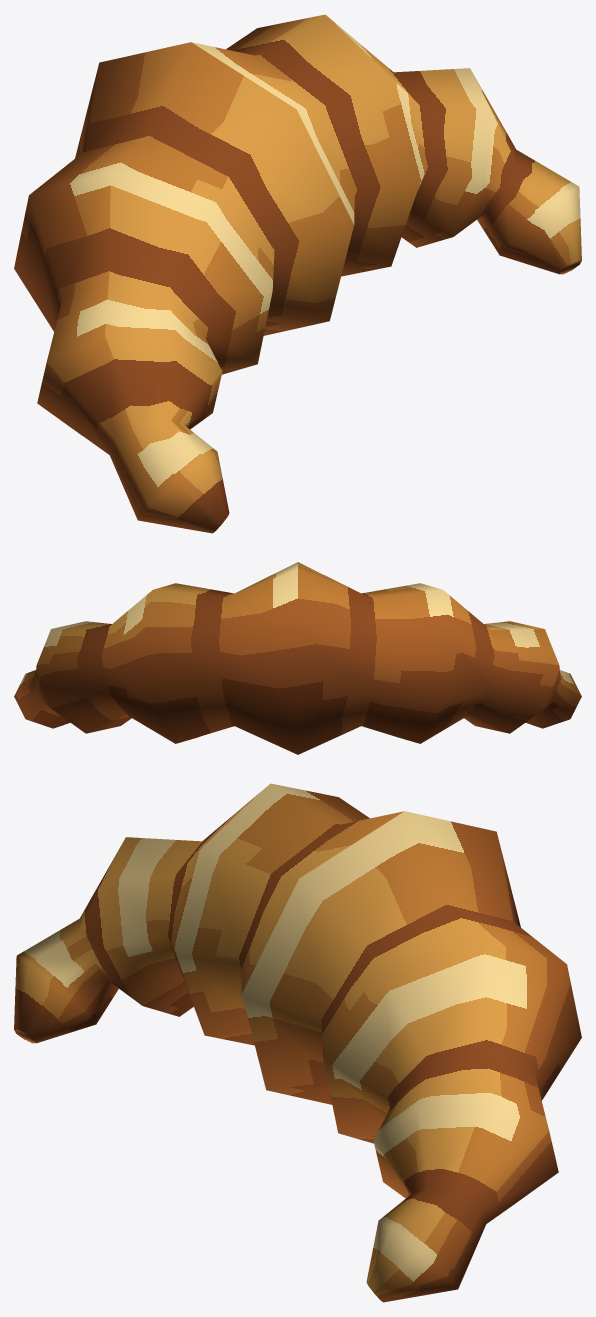
File: meals-croissant.glb
3 views of the same model, one above another, from view 1: azimuth 30°, elevation 25°; view 2: azimuth 150°, elevation 25°; view 3: azimuth 270°, elevation 25° (orthographic). The views are drawn at different scales.
Visible parts, largest first — view 1: meals.croissant; view 2: meals.croissant; view 3: meals.croissant.
Boxes of the visible parts, x1,y1,x2,y2 form: meals.croissant: (14,14,581,533); meals.croissant: (14,562,581,754); meals.croissant: (14,783,581,1302).
Size of the model in its own units: 1.68 by 0.7556 by 1.25.
1 material, 1 textured.
